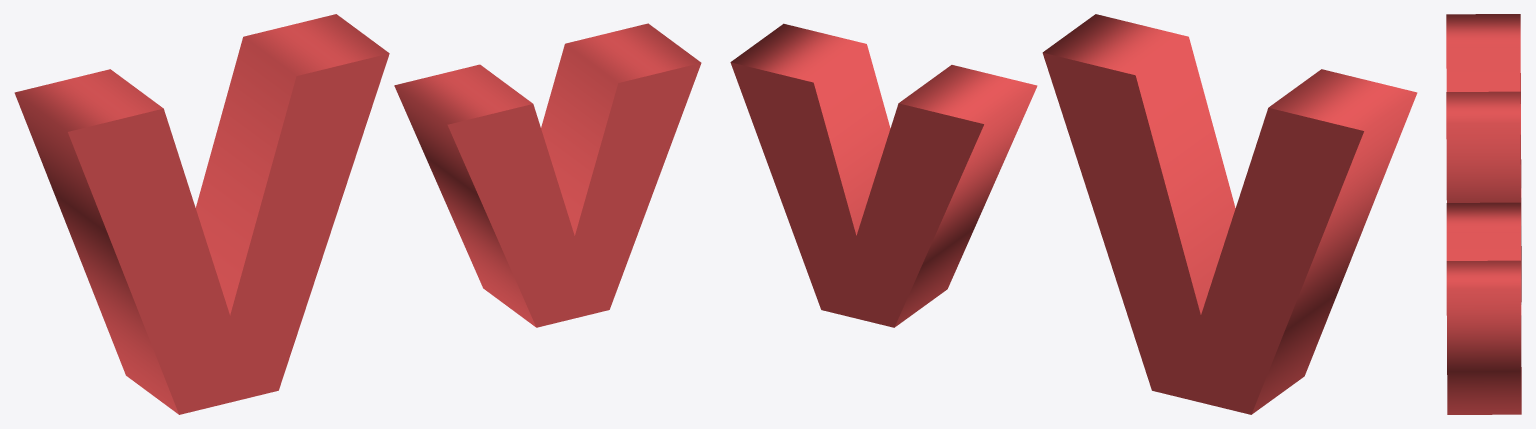
The model's file is letra v.fbx.
The picture shows the model from 3 angles, left to right: view 1: azimuth 30°, elevation 25°; view 2: azimuth 150°, elevation 25°; view 3: azimuth 270°, elevation 25°; orthographic projection. The views are drawn at different scales.
Visible parts, largest first — view 1: Text; view 2: Text; view 3: Text.
Part boxes in pixels (<box>): Text: <box>14,14,701,414</box>; Text: <box>730,14,1417,414</box>; Text: <box>1446,14,1521,414</box>.
Bounding box in the file's own units: 110 × 51.56 × 16.21.
